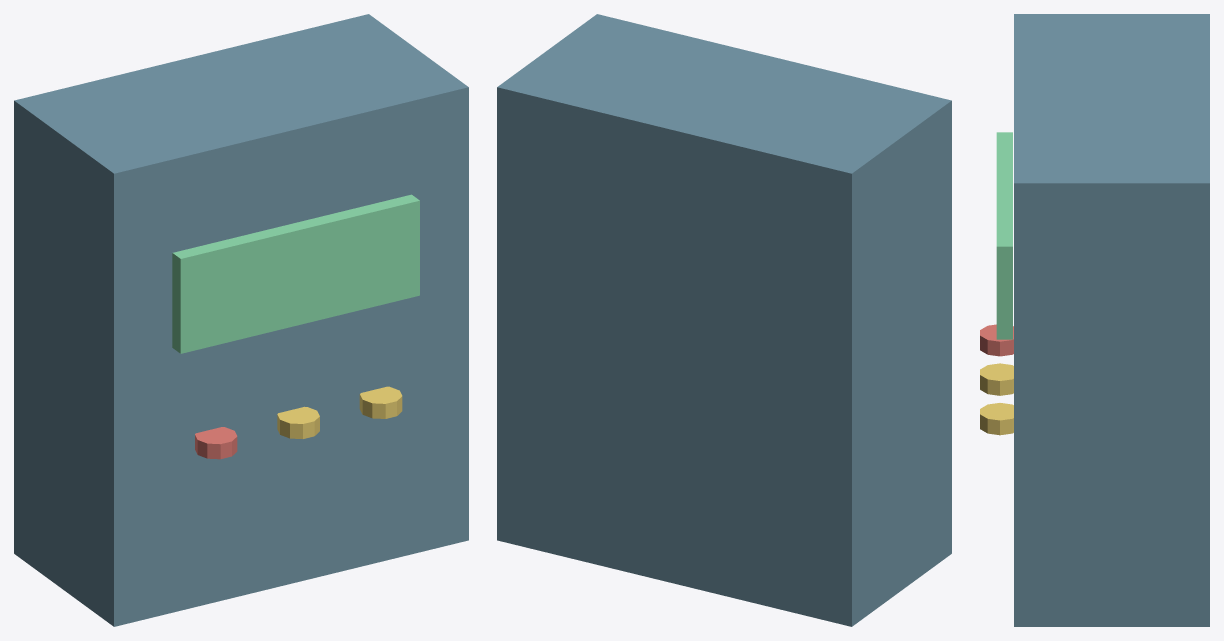
Rendered from monitor_lod1.glb.
3 views of the same model, side by side, from view 1: azimuth 30°, elevation 25°; view 2: azimuth 150°, elevation 25°; view 3: azimuth 270°, elevation 25° (orthographic). The views are drawn at different scales.
Visible parts, largest first — view 1: part_0, part_1, part_4, part_2, part_3; view 2: part_0; view 3: part_0, part_1, part_3, part_4, part_2.
Boxes of the visible parts, bbox=[...] form: part_0: bbox=[14, 14, 468, 626]; part_1: bbox=[172, 194, 419, 353]; part_4: bbox=[359, 386, 402, 418]; part_2: bbox=[195, 427, 237, 459]; part_3: bbox=[277, 406, 319, 438]; part_0: bbox=[497, 14, 951, 626]; part_0: bbox=[1014, 14, 1209, 626]; part_1: bbox=[996, 132, 1012, 339]; part_3: bbox=[980, 363, 1013, 395]; part_4: bbox=[980, 403, 1013, 435]; part_2: bbox=[980, 324, 1013, 356].
Bounding box in the file's own units: 0.86 × 1.05 × 0.4928.
